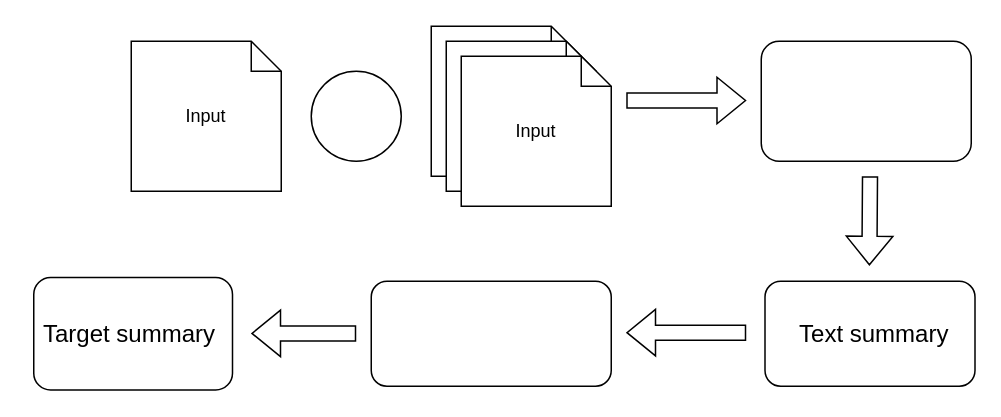
Some shapes in this 1001 by 417 pixel diagram are drawn without their labels. The shapes that lost their labels are listed below. From the top down, each one's centre as x and y in pixels, then its label:
At (x=355, y=115): "or".
At (x=865, y=100): "Document segmentation".
At (x=490, y=333): "Post - processing".
